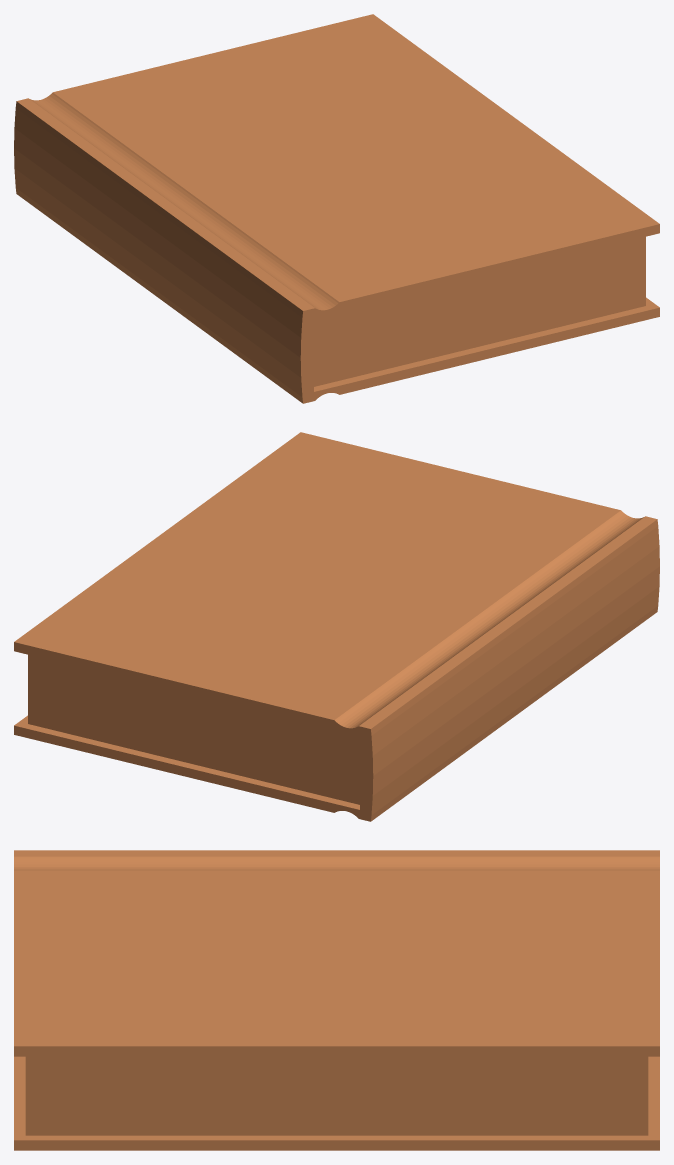
The model's file is book.glb.
3 renders of one model, top to bottom at view 1: azimuth 30°, elevation 25°; view 2: azimuth 150°, elevation 25°; view 3: azimuth 270°, elevation 25°, orthographic. The views are drawn at different scales.
Parts seen in each view (by area): view 1: Mesh_Mesh_head_geo.001_lambert2SG.001; view 2: Mesh_Mesh_head_geo.001_lambert2SG.001; view 3: Mesh_Mesh_head_geo.001_lambert2SG.001.
Boxes of the visible parts, x1,y1,x2,y2 form: Mesh_Mesh_head_geo.001_lambert2SG.001: (14,14,659,403); Mesh_Mesh_head_geo.001_lambert2SG.001: (14,432,659,821); Mesh_Mesh_head_geo.001_lambert2SG.001: (14,850,659,1150).
Bounding box in the file's own units: 0.0405 × 0.01 × 0.056.
